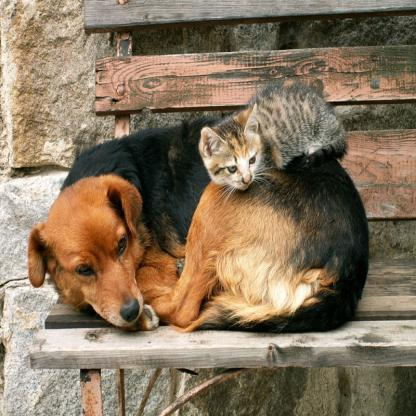cat: (190, 111, 295, 192)
dog: (18, 159, 170, 332)
